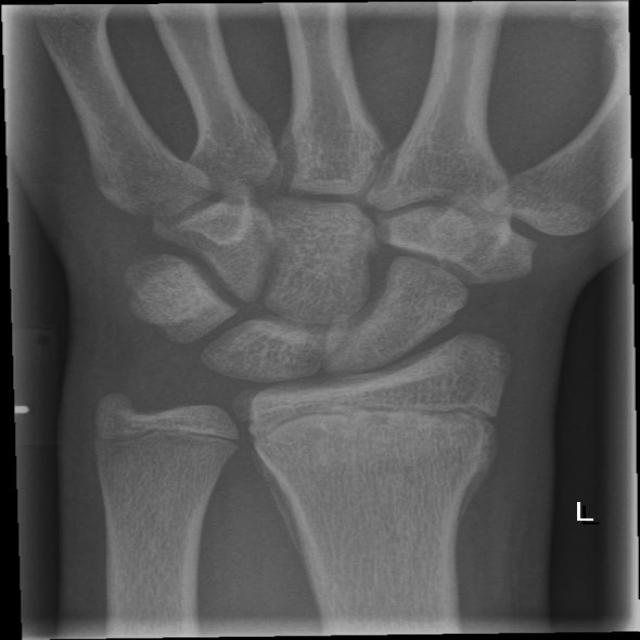fracture: (220, 388, 526, 457), (67, 402, 253, 463)
